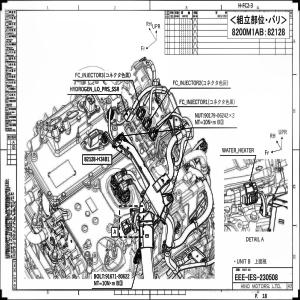PartNumber: (84, 155, 110, 162), (105, 273, 130, 280), (205, 112, 230, 117)
